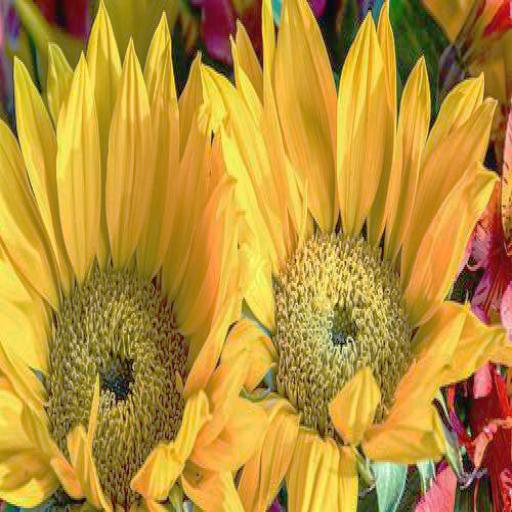sunflower: (208, 2, 505, 512)
